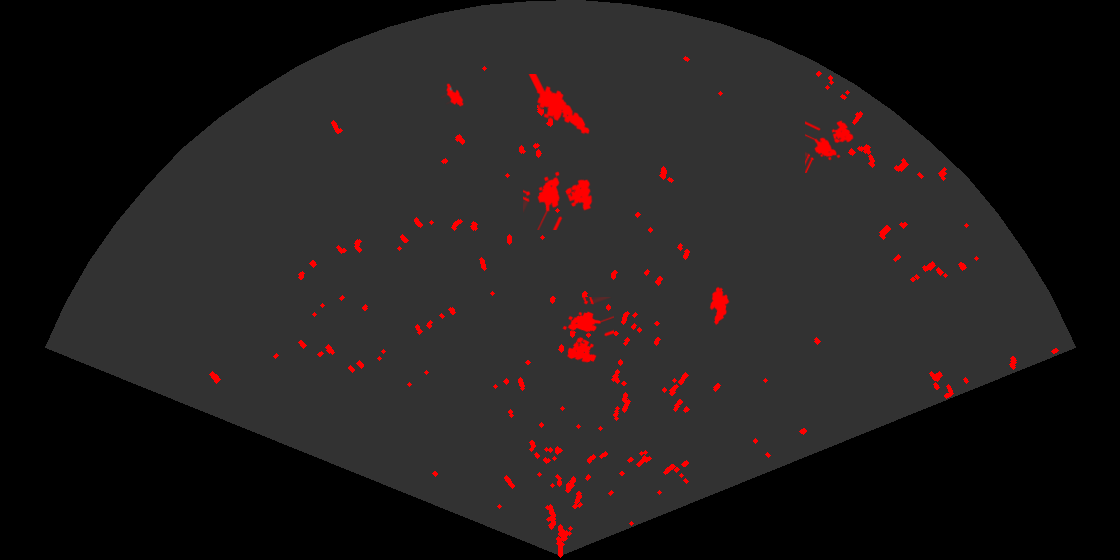AUV: (708, 285, 731, 327), (441, 82, 465, 108)
cage: (523, 170, 594, 230), (561, 297, 614, 364), (805, 119, 855, 173)
frogman: (527, 74, 591, 136)
